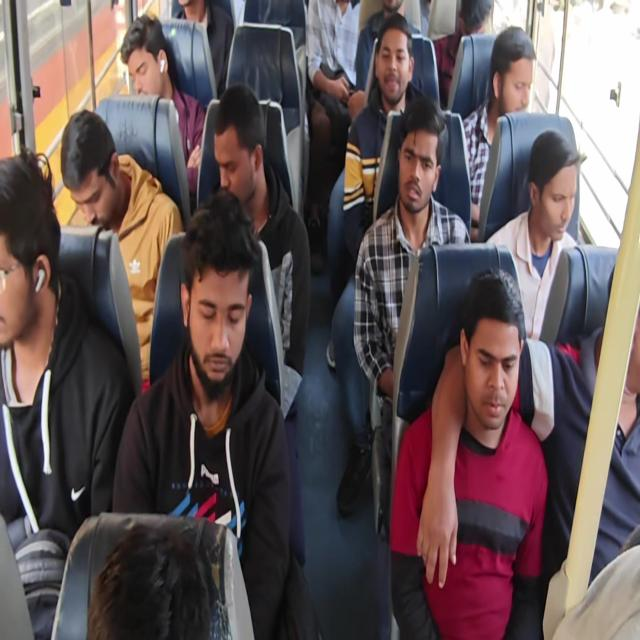person: (92, 541, 222, 640), (182, 228, 245, 384), (458, 290, 524, 434), (0, 176, 52, 356), (57, 118, 119, 228), (209, 88, 262, 200), (528, 144, 588, 242), (117, 17, 176, 102), (491, 26, 537, 127), (397, 123, 438, 217), (376, 24, 414, 106), (458, 0, 494, 51), (375, 0, 411, 23)
